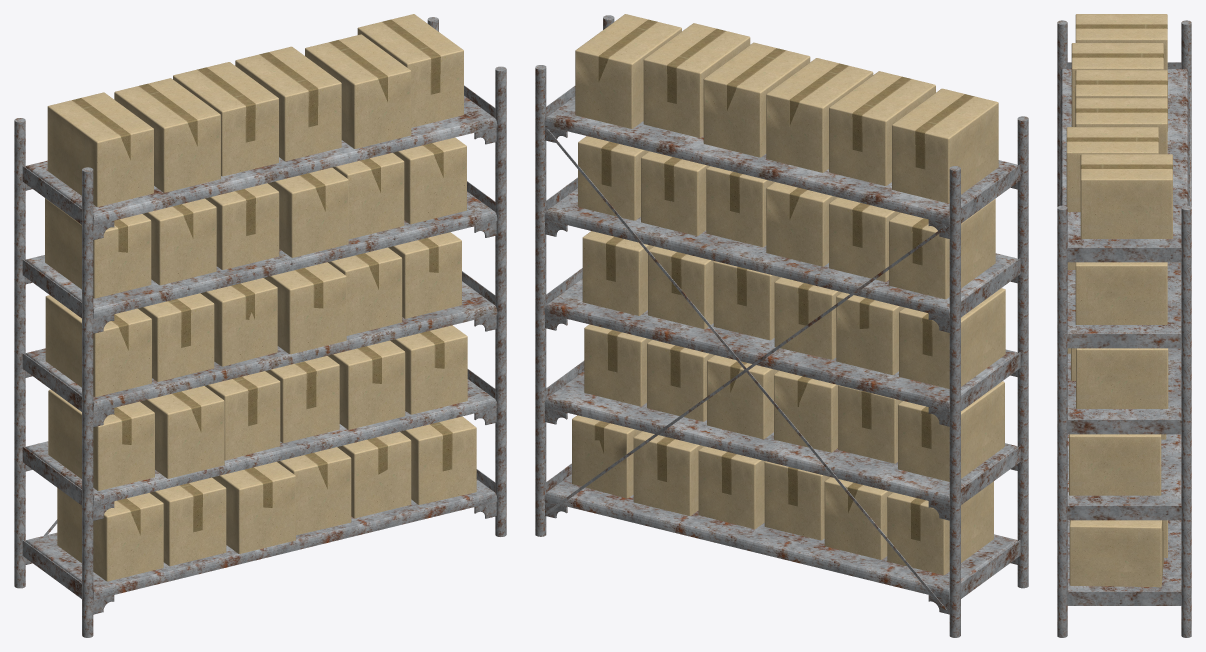
File: rusty_metal_warehouse_shelving.glb
3 renders of one model, left to right at view 1: azimuth 30°, elevation 25°; view 2: azimuth 150°, elevation 25°; view 3: azimuth 270°, elevation 25°, orthographic. The views are drawn at different scales.
Visible parts, largest first — view 1: Material2 (×3); view 2: Material2 (×3); view 3: Material2 (×3).
Boxes of the visible parts, x1,y1,x2,y2 form: Material2 (×3): [14, 14, 506, 637]; Material2 (×3): [535, 14, 1028, 637]; Material2 (×3): [1057, 14, 1191, 637].
Size of the model in its own units: 174 by 190 by 52.18.
4 materials, 3 textured.
